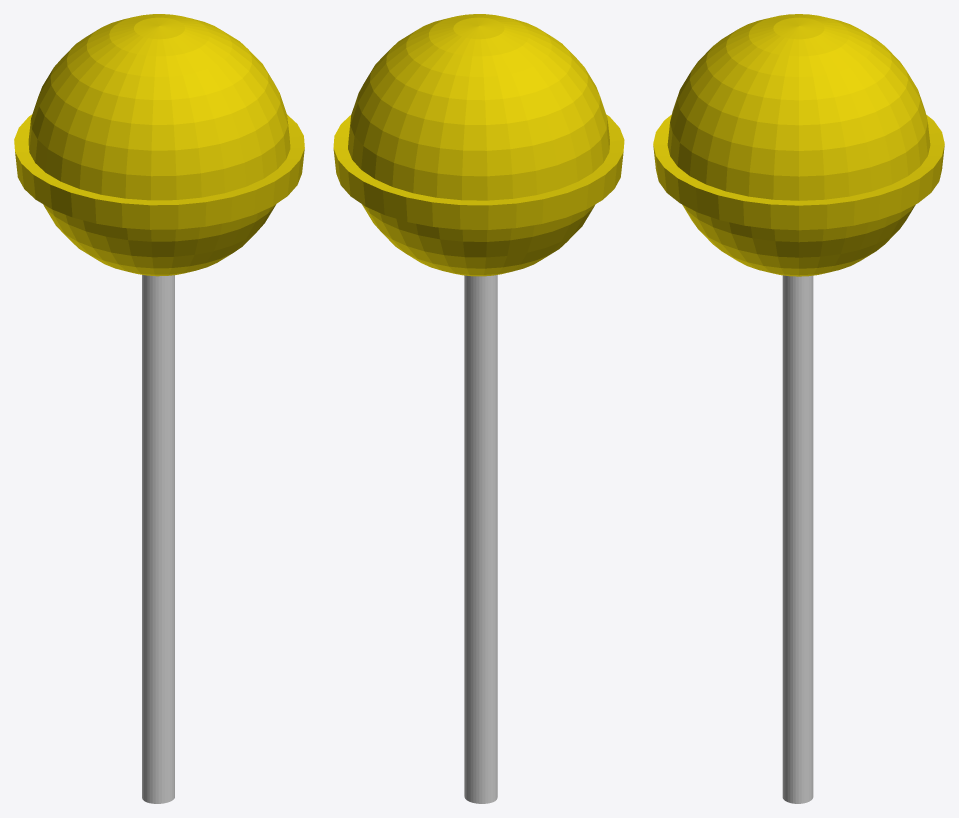
File: marshPop4.fbx
The picture shows the model from 3 angles, left to right: view 1: azimuth 30°, elevation 25°; view 2: azimuth 150°, elevation 25°; view 3: azimuth 270°, elevation 25°; orthographic projection.
Visible parts, largest first — view 1: Circle; view 2: Circle; view 3: Circle.
Part boxes in pixels (left/top/right/bottom): Circle: left=14, top=14, right=304, bottom=803; Circle: left=333, top=14, right=624, bottom=803; Circle: left=653, top=14, right=944, bottom=803.
Size of the model in its own units: 41.65 by 122 by 41.65.
